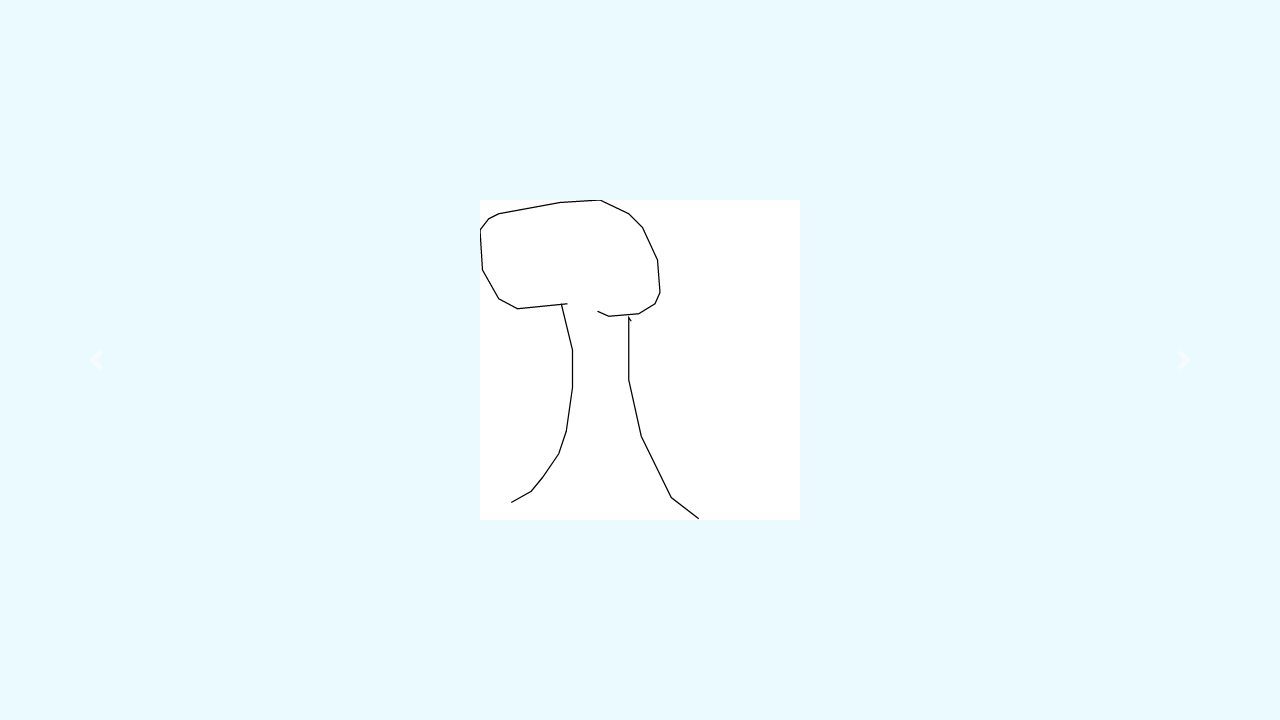tree: (473, 194, 708, 527)
